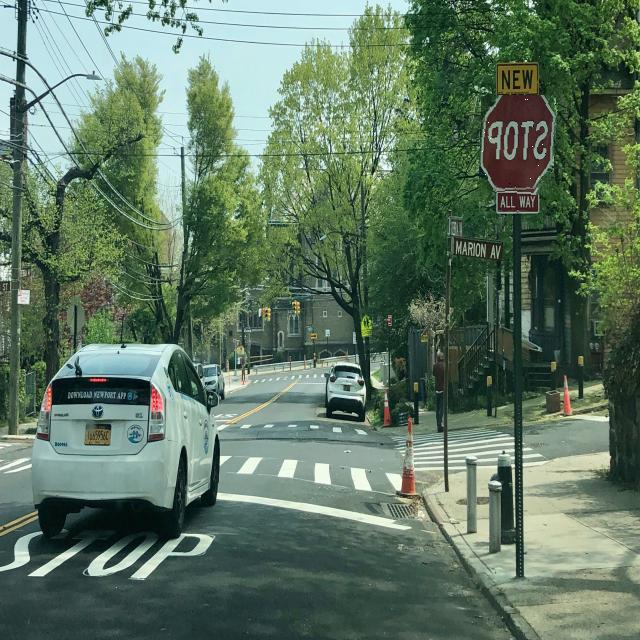stop: (480, 95, 556, 194)
